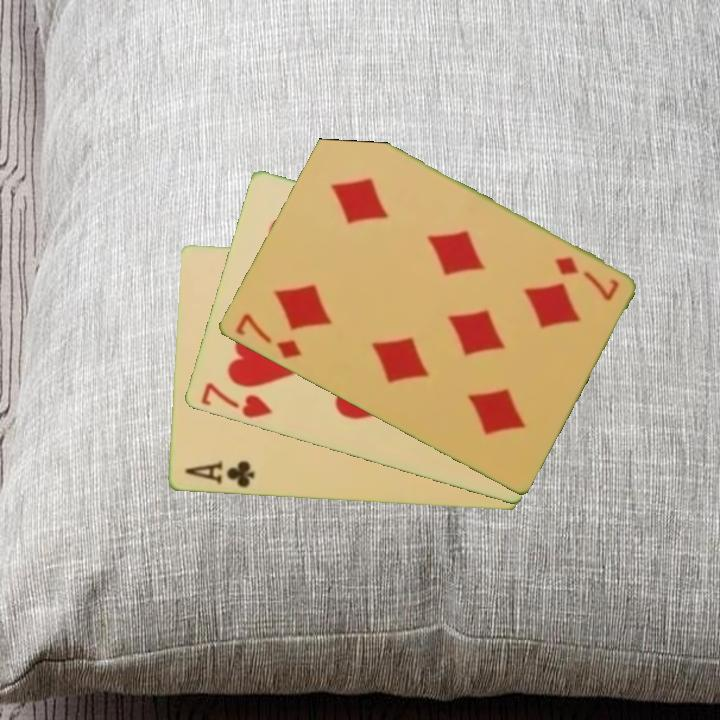7d: (231, 310, 304, 363), (551, 253, 621, 305)
7h: (196, 379, 274, 422)
Ac: (181, 458, 257, 491)
